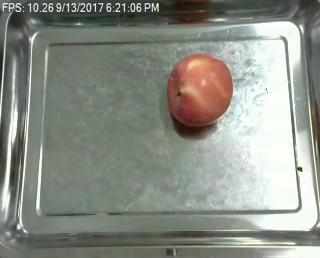apple: (166, 53, 233, 128)
